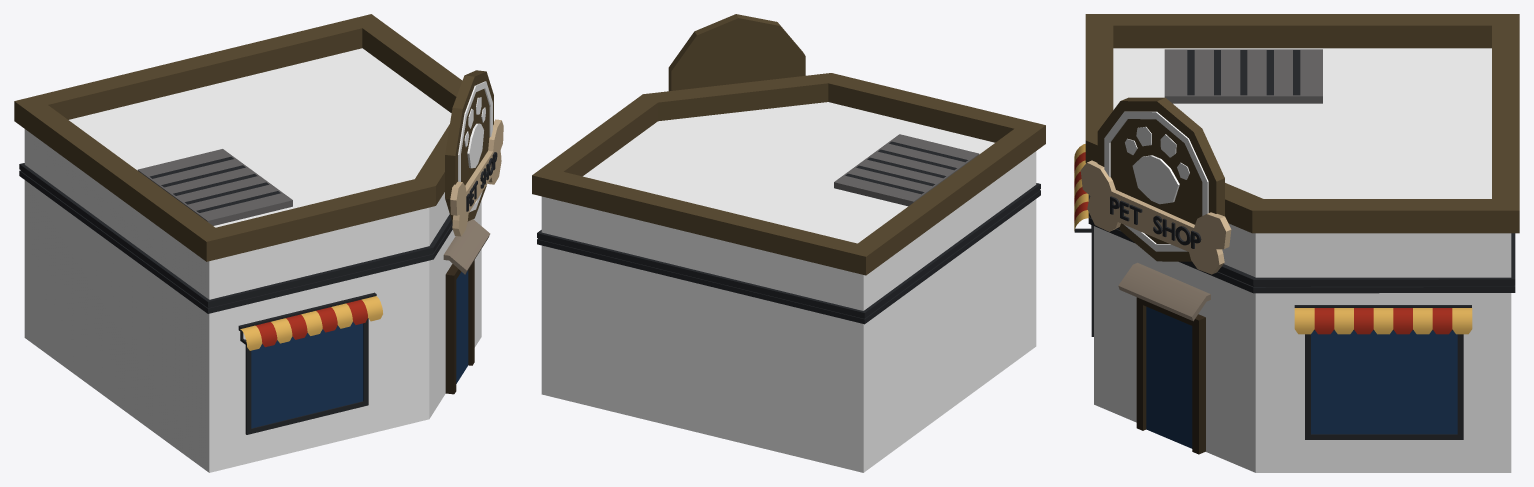
The model's file is Pet Shop_1.fbx.
The picture shows the model from 3 angles, left to right: view 1: azimuth 30°, elevation 25°; view 2: azimuth 150°, elevation 25°; view 3: azimuth 270°, elevation 25°; orthographic projection. The views are drawn at different scales.
Visible parts, largest first — view 1: Pet Shop_1; view 2: Pet Shop_1; view 3: Pet Shop_1.
Boxes of the visible parts, <box> form: Pet Shop_1: <box>14,14,503,472</box>; Pet Shop_1: <box>532,14,1045,472</box>; Pet Shop_1: <box>1074,14,1519,472</box>.
Size of the model in its own units: 1030 by 818 by 962.
